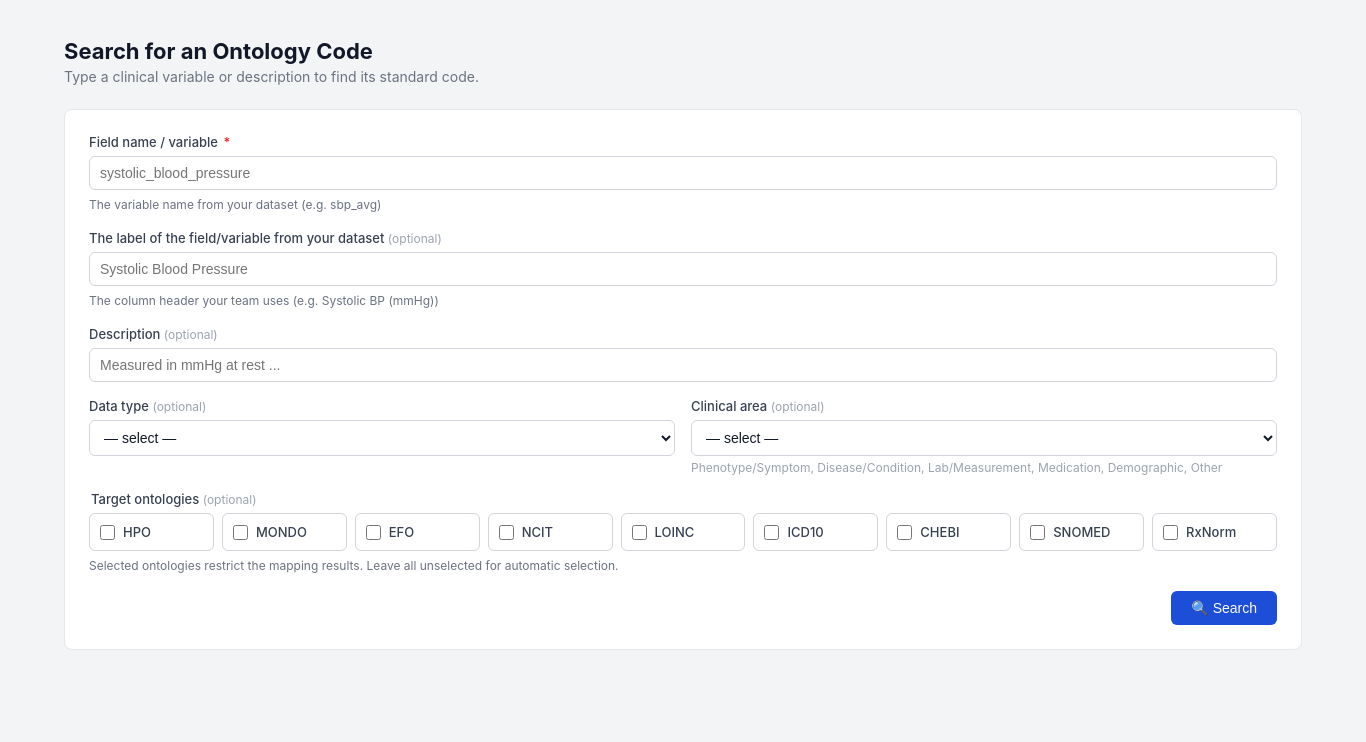
Test: SearchPage retrieval method display › renders local as Local retrieval (grounded)
Type "sbp" into the field labelled "Field name / variable *" at (683, 173), box x1=89 y1=156 x2=1277 y2=190
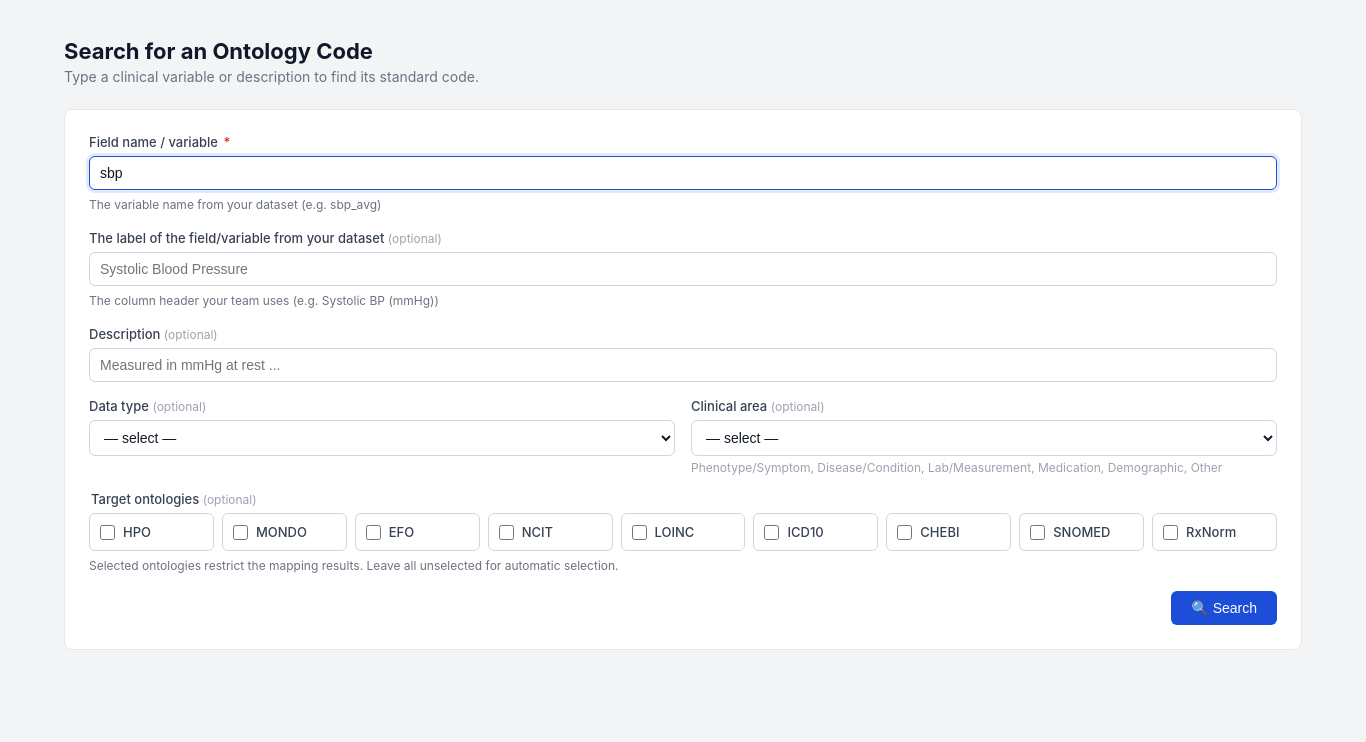
Click the button "🔍 Search" at (1224, 608), box x1=1171 y1=591 x2=1277 y2=625
(page scrolled)
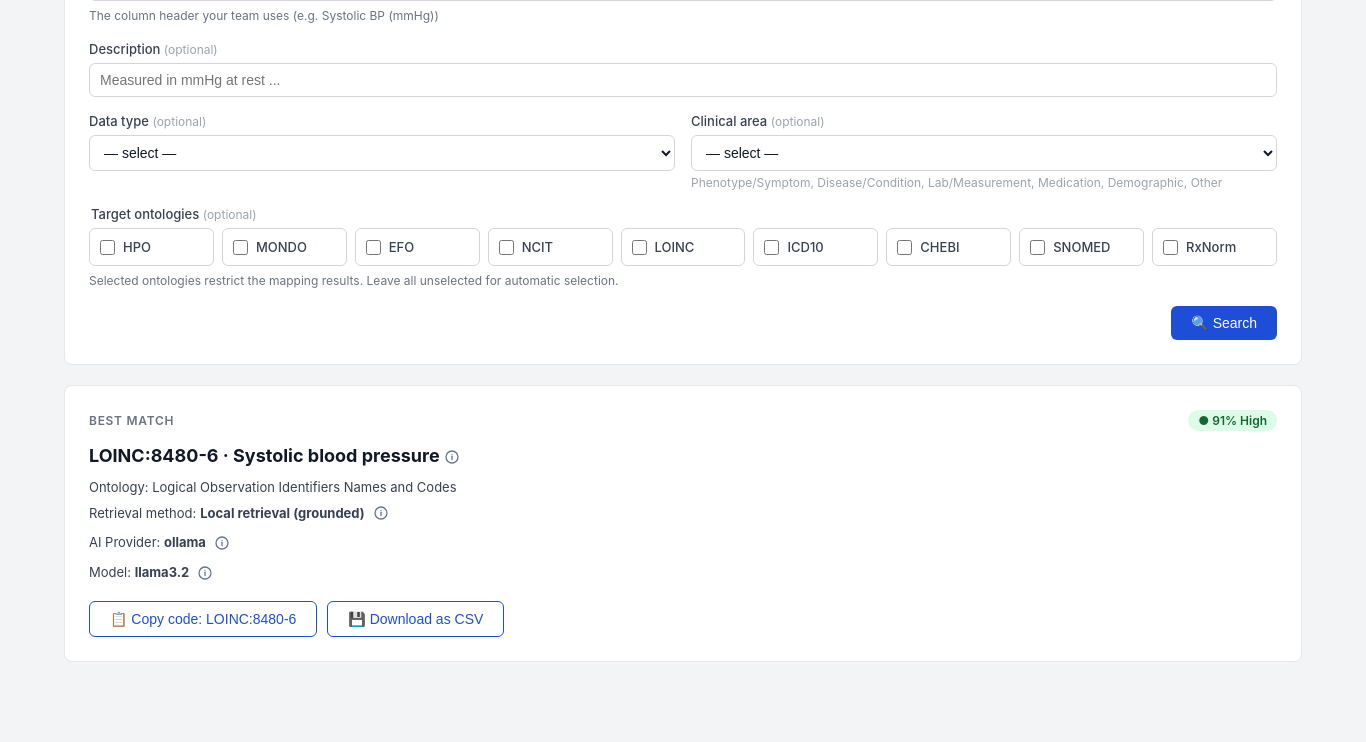
Expected: the text "Local retrieval (grounded)" is shown, x1=200 y1=505 x2=365 y2=521
Expected: the text "Retrieval method: Local retrieval (grounded)" is shown, x1=89 y1=501 x2=393 y2=525
